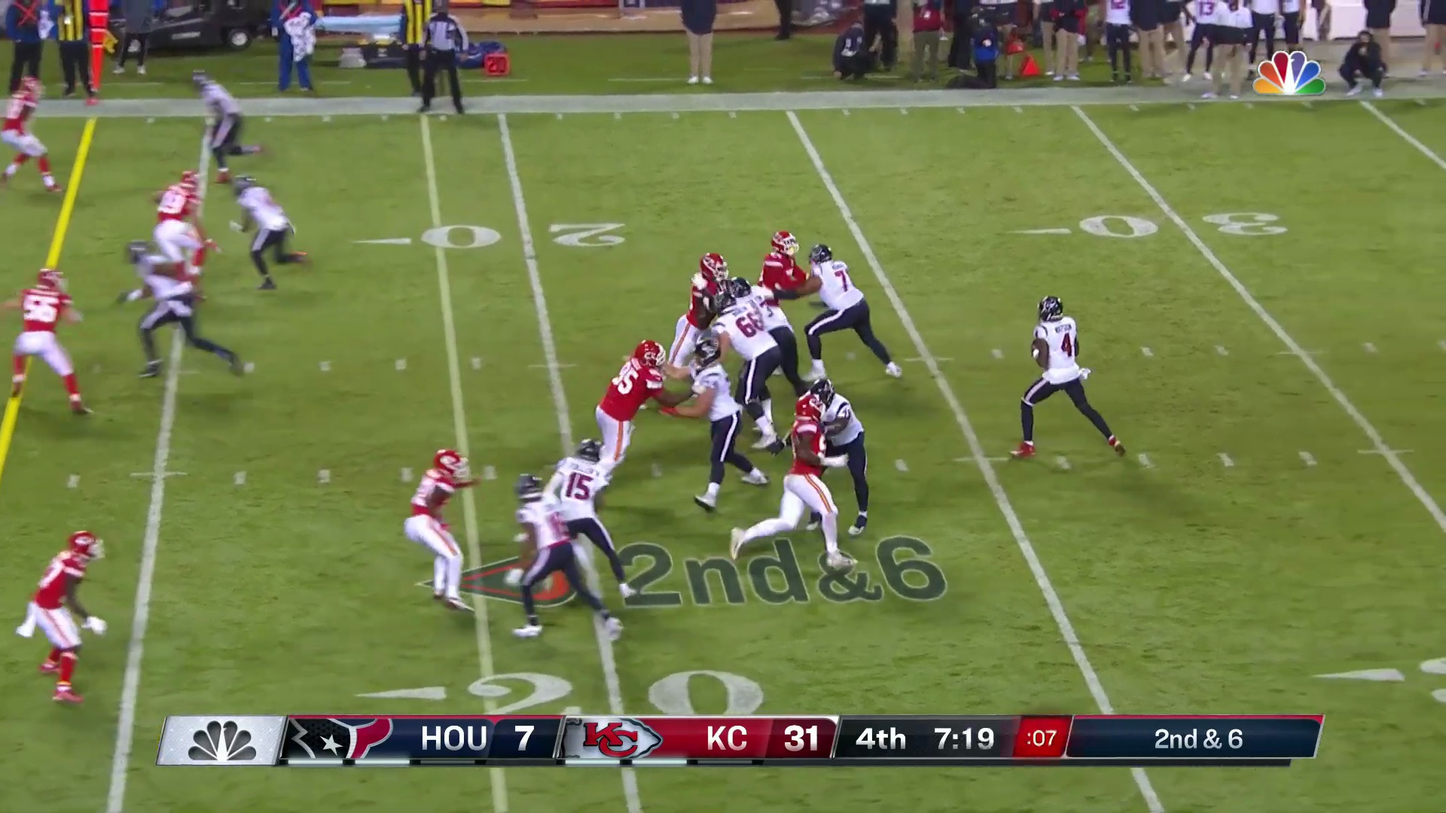Player: (721, 279, 794, 446), (547, 440, 622, 593), (405, 449, 470, 605), (513, 474, 573, 630), (754, 231, 807, 392), (136, 242, 199, 375), (669, 253, 731, 385), (0, 74, 57, 189), (154, 170, 205, 281)
